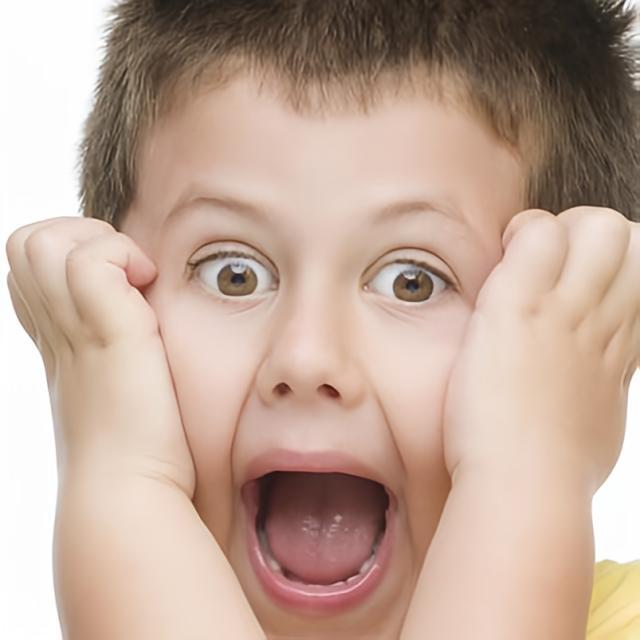fear: (144, 64, 612, 640)
